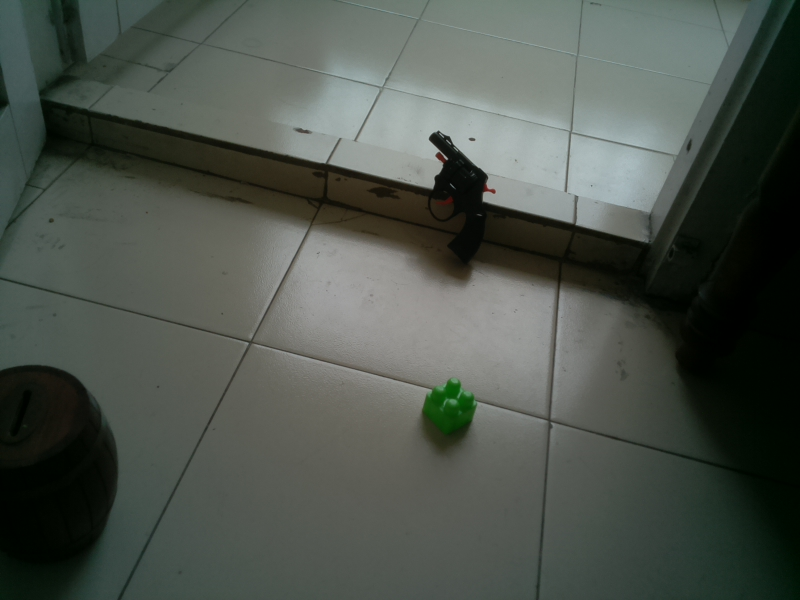Gun: (422, 127, 501, 272)
